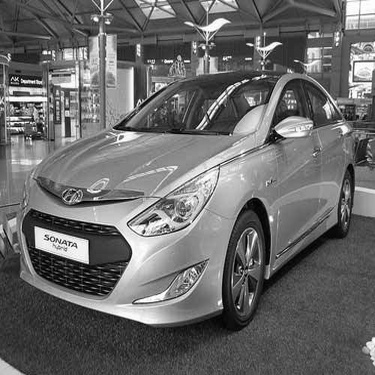car: (11, 68, 365, 342)
